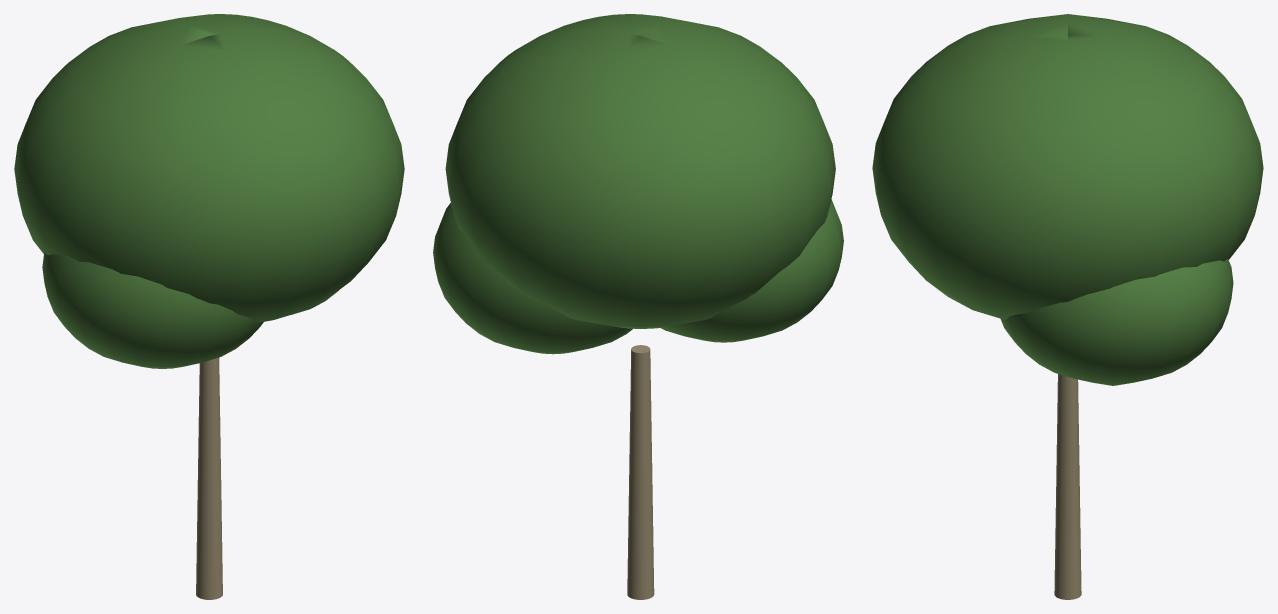
File: e01-london-plane.glb
3 views of the same model, side by side, from view 1: azimuth 30°, elevation 25°; view 2: azimuth 150°, elevation 25°; view 3: azimuth 270°, elevation 25° (orthographic).
Parts seen in each view (by area): view 1: part1, part3, part0; view 2: part1, part2, part3, part0; view 3: part1, part2, part0.
Part boxes in pixels (<box>): part1: <box>14,14,404,322</box>; part3: <box>42,253,263,368</box>; part0: <box>196,357,222,599</box>; part1: <box>445,14,835,328</box>; part2: <box>433,203,632,354</box>; part3: <box>660,199,843,342</box>; part0: <box>627,345,654,599</box>; part1: <box>872,14,1263,319</box>; part2: <box>1000,259,1233,385</box>; part0: <box>1054,374,1081,599</box>.
Bounding box in the file's own units: 12998 × 20500 × 12990.
